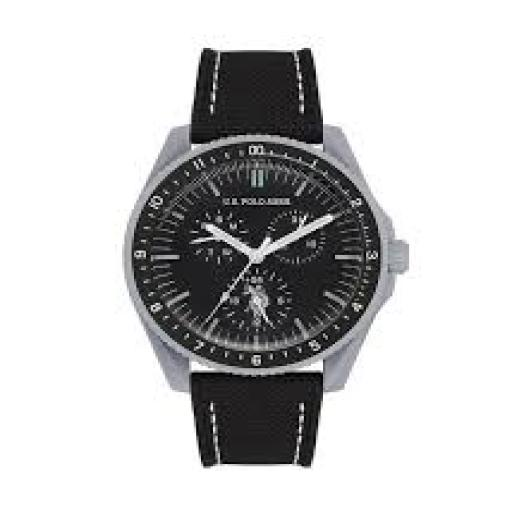KolSaati: (93, 23, 444, 485)
